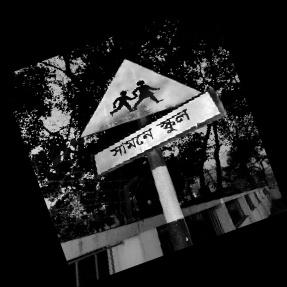School-in-front: (81, 58, 223, 178)
